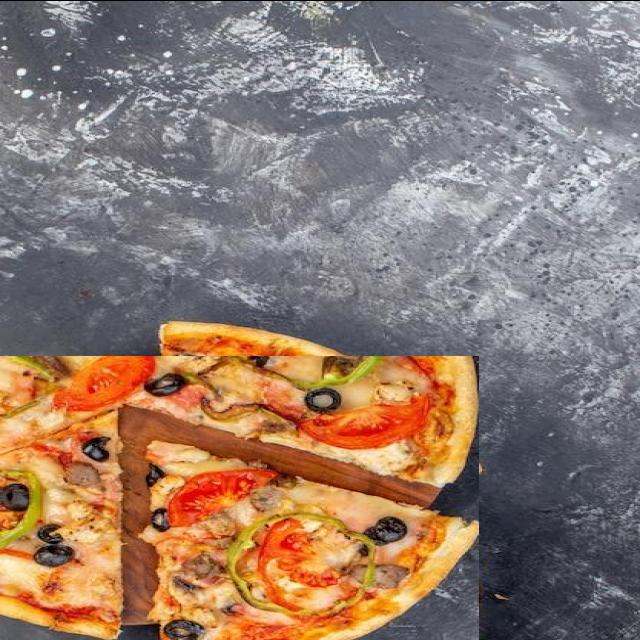olive: (363, 450, 408, 480), (33, 428, 74, 452), (144, 599, 185, 623), (163, 353, 205, 376), (304, 584, 342, 608), (1, 484, 30, 512), (81, 534, 111, 560), (37, 452, 64, 471), (150, 464, 170, 488), (145, 508, 164, 532), (219, 380, 238, 391)
pizza: (0, 355, 479, 640), (138, 320, 481, 555)
